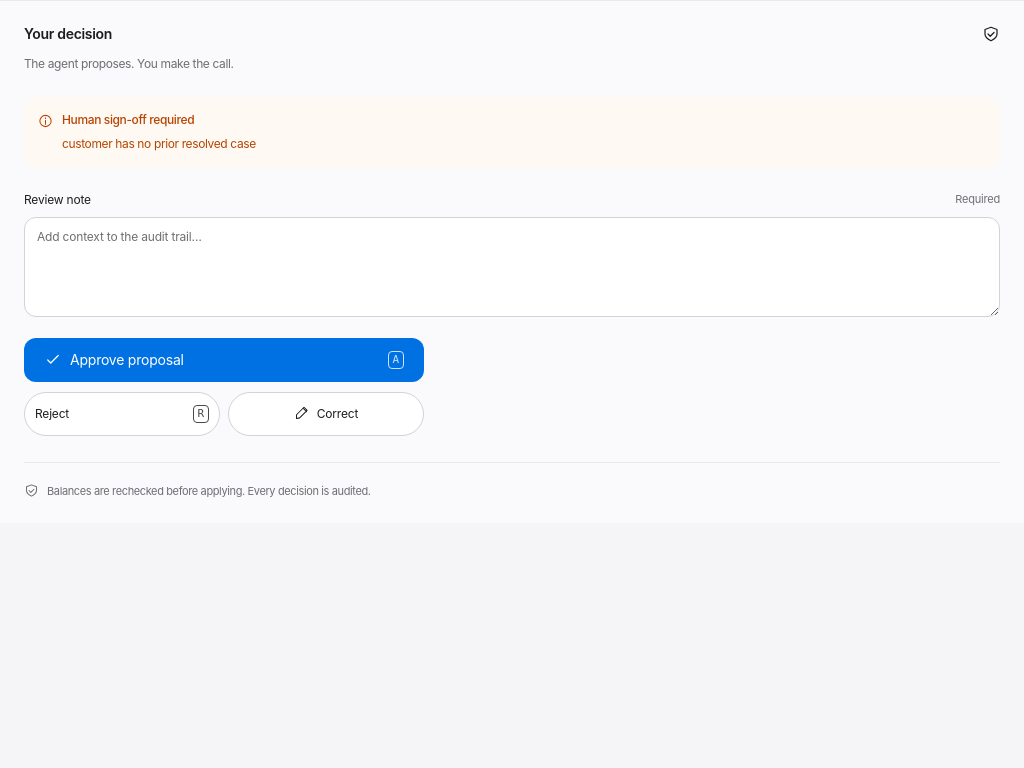
Test case: requires an explicit note before a proof mismatch override
Click the button "Approve proposal A" at (127, 359), box 24,338 -> 424,382
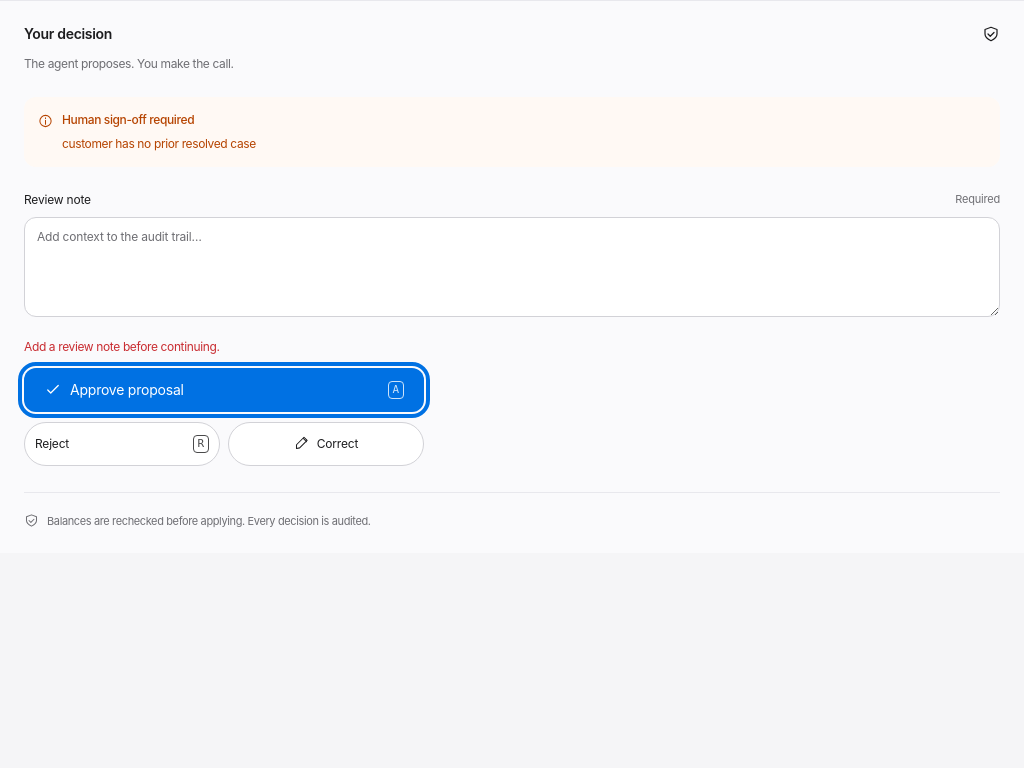
Expected: the message shows "Add a review note", 24,339 -> 220,354
